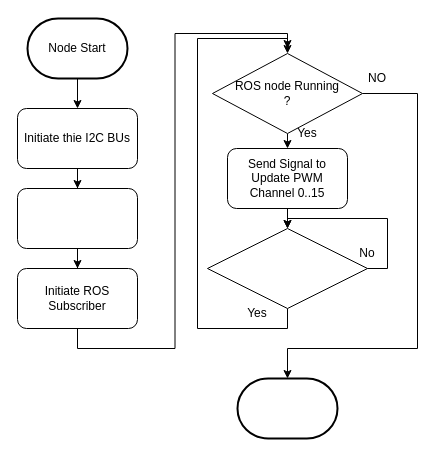
Image size: 443x456. Some labels were removed from this diagram. The shapes that lost their labels are listed below. From the top down, each one's box as (x1, y1, x2, y2) in pixels, then its label:
(16, 188, 138, 248): Initiatethie PCA9685
(206, 228, 368, 308): Seelp unitl update rate= 1Hz
(236, 377, 338, 439): Node END
